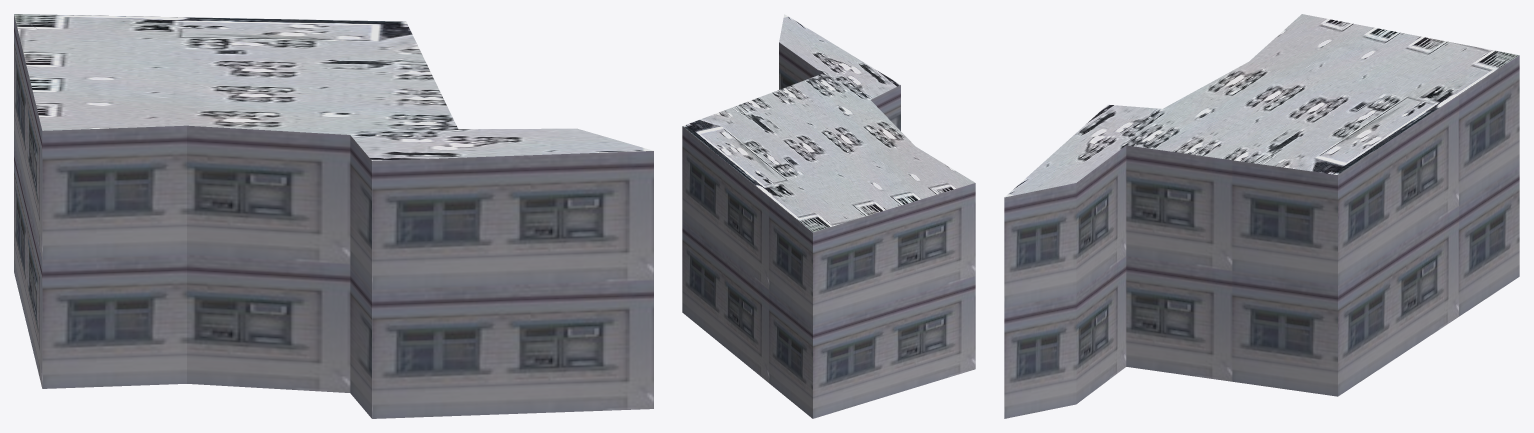
Rendered from ResTex__3287.fbx.
3 views of the same model, side by side, from view 1: azimuth 30°, elevation 25°; view 2: azimuth 150°, elevation 25°; view 3: azimuth 270°, elevation 25° (orthographic). The views are drawn at different scales.
Parts seen in each view (by area): view 1: CityEngineMaterial_1_m, CityEngineMaterial_4_m; view 2: CityEngineMaterial_1_m, CityEngineMaterial_4_m; view 3: CityEngineMaterial_1_m, CityEngineMaterial_4_m.
Part boxes in pixels (<box>): CityEngineMaterial_1_m: <box>14,15,653,418</box>; CityEngineMaterial_4_m: <box>14,14,653,160</box>; CityEngineMaterial_1_m: <box>682,42,975,418</box>; CityEngineMaterial_4_m: <box>682,14,974,232</box>; CityEngineMaterial_1_m: <box>1004,55,1519,418</box>; CityEngineMaterial_4_m: <box>1005,14,1519,197</box>.
Size of the model in its own units: 10.66 by 6 by 12.65.
2 materials, 2 textured.
